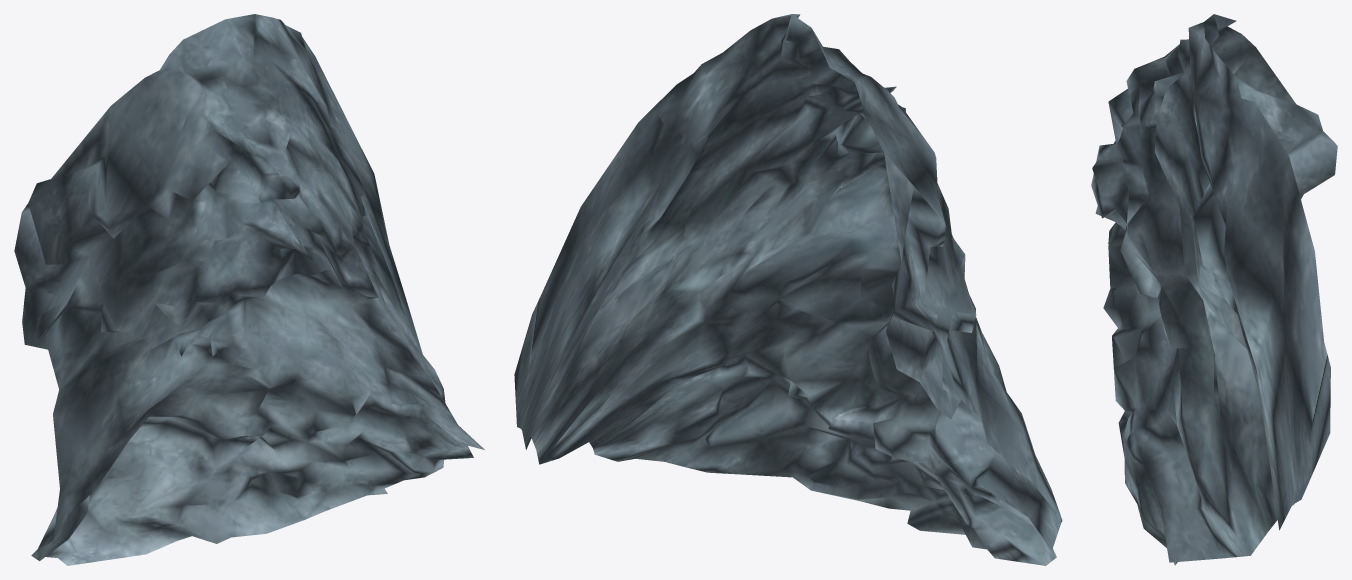
File: relief-montagne.lod1.glb
3 views of the same model, side by side, from view 1: azimuth 30°, elevation 25°; view 2: azimuth 150°, elevation 25°; view 3: azimuth 270°, elevation 25° (orthographic). The views are drawn at different scales.
Visible parts, largest first — view 1: mountainside; view 2: mountainside; view 3: mountainside.
Part boxes in pixels (x1,y1,x2,y2): mountainside: (14, 14, 484, 565); mountainside: (514, 14, 1062, 565); mountainside: (1091, 14, 1337, 565).
Size of the model in its own units: 251 by 260 by 127.
1 material, 1 textured.
